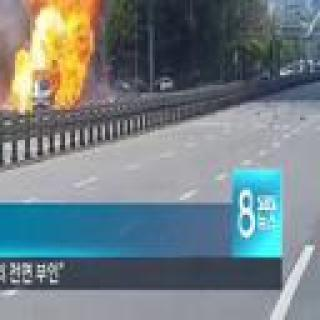fire: (36, 0, 89, 88), (13, 60, 34, 108)
